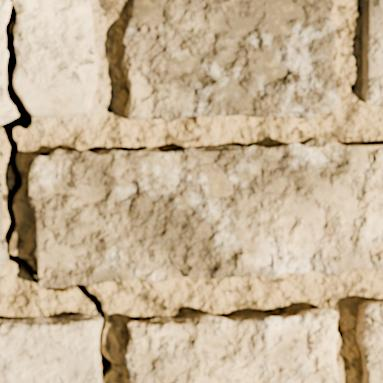brick: (29, 139, 382, 286), (122, 0, 339, 121), (124, 309, 338, 382), (0, 314, 100, 382), (362, 0, 382, 106), (357, 301, 382, 382), (0, 182, 2, 234), (0, 240, 3, 274)
broken_brick: (0, 0, 99, 123)
crack: (0, 2, 115, 380), (58, 374, 63, 382)
